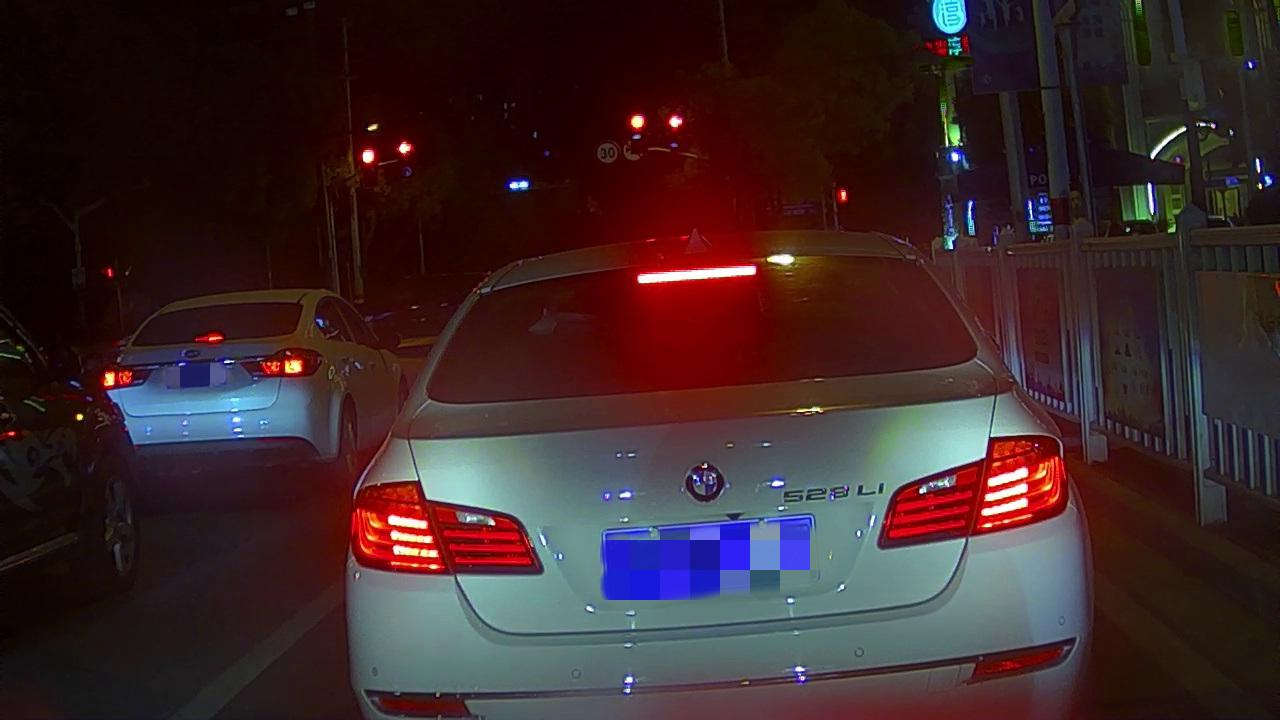traffic_light: (664, 111, 688, 134), (357, 145, 379, 167), (393, 137, 415, 159), (628, 111, 648, 132)
